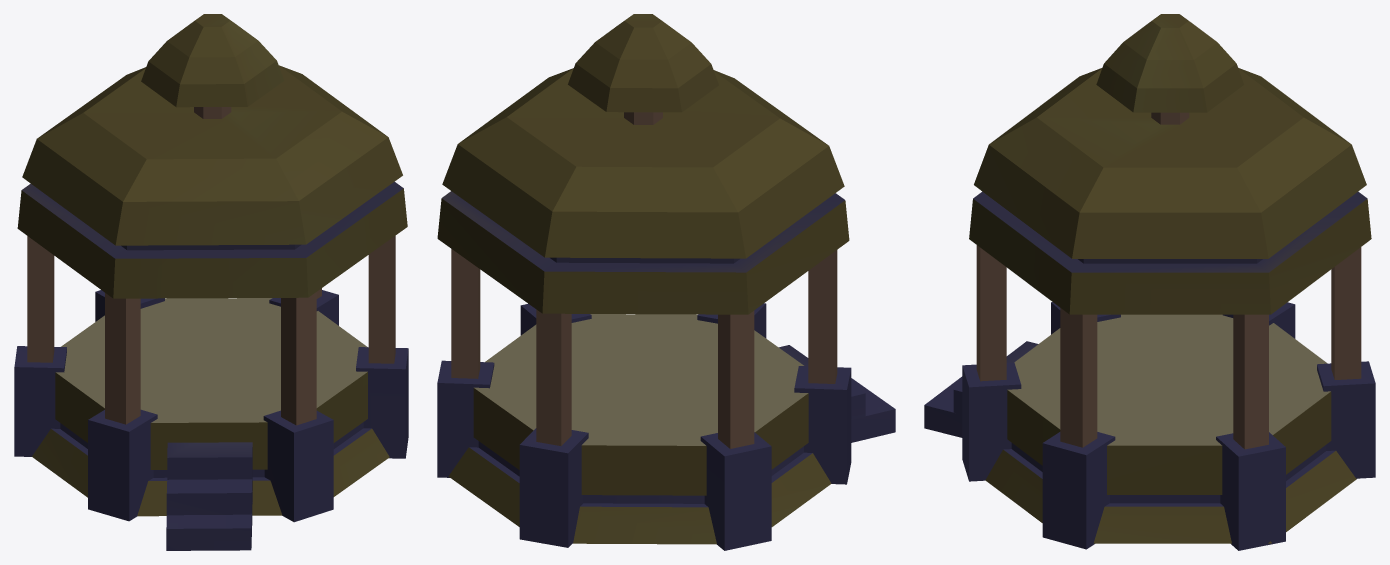
File: CoretoLOD.fbx
3 views of the same model, side by side, from view 1: azimuth 30°, elevation 25°; view 2: azimuth 150°, elevation 25°; view 3: azimuth 270°, elevation 25° (orthographic). The views are drawn at different scales.
Parts seen in each view (by area): view 1: Coreto_LOD0; view 2: Coreto_LOD0; view 3: Coreto_LOD0.
Boxes of the visible parts, left/top/right/bottom form: Coreto_LOD0: left=14, top=14, right=408, bottom=550; Coreto_LOD0: left=437, top=14, right=895, bottom=550; Coreto_LOD0: left=924, top=14, right=1375, bottom=550.
Size of what is drawn, in the model's own units: 865 by 1107 by 1009.
